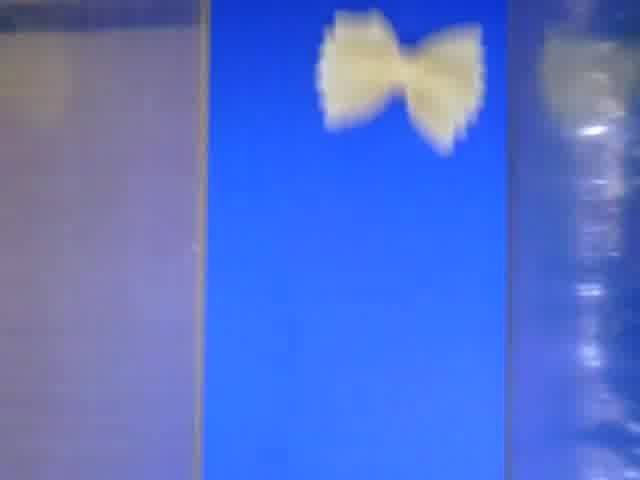farfalle: (319, 10, 489, 157)
